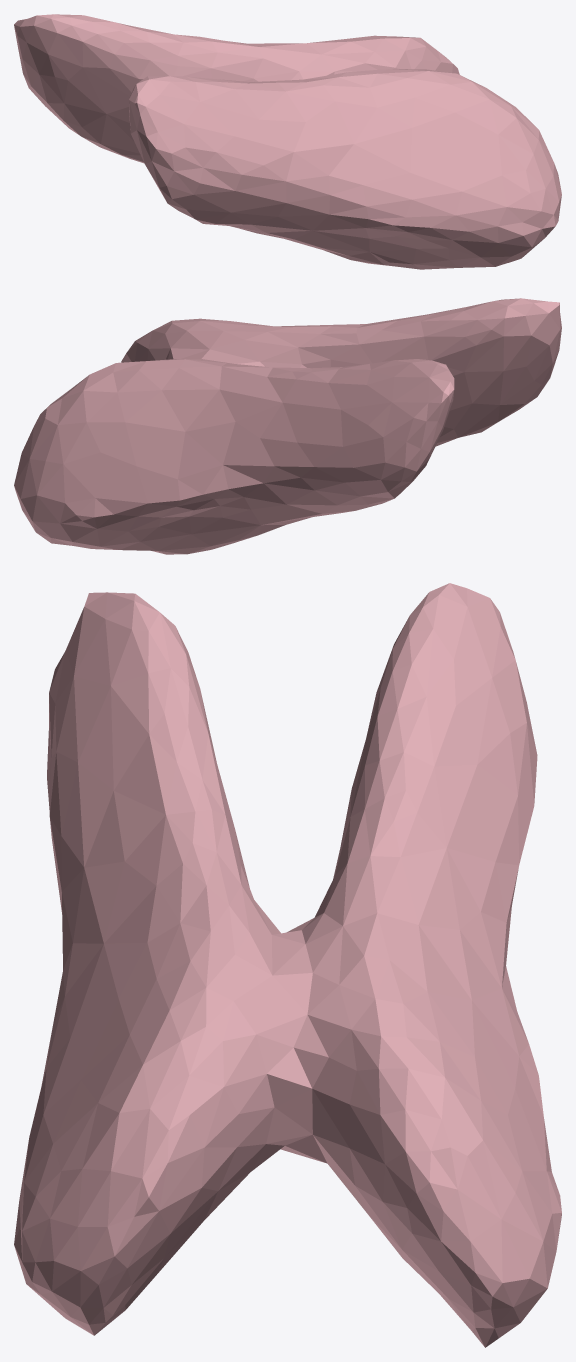
3 views of the same model, one above another, from view 1: azimuth 30°, elevation 25°; view 2: azimuth 150°, elevation 25°; view 3: azimuth 270°, elevation 25° (orthographic). The views are drawn at different scales.
Visible parts, largest first — view 1: 483.obj; view 2: 483.obj; view 3: 483.obj.
Part boxes in pixels (x1,y1,x2,y2): 483.obj: [14, 14, 561, 269]; 483.obj: [14, 298, 561, 554]; 483.obj: [14, 583, 561, 1347].
Size of the model in its own units: 1418 by 811 by 909.
